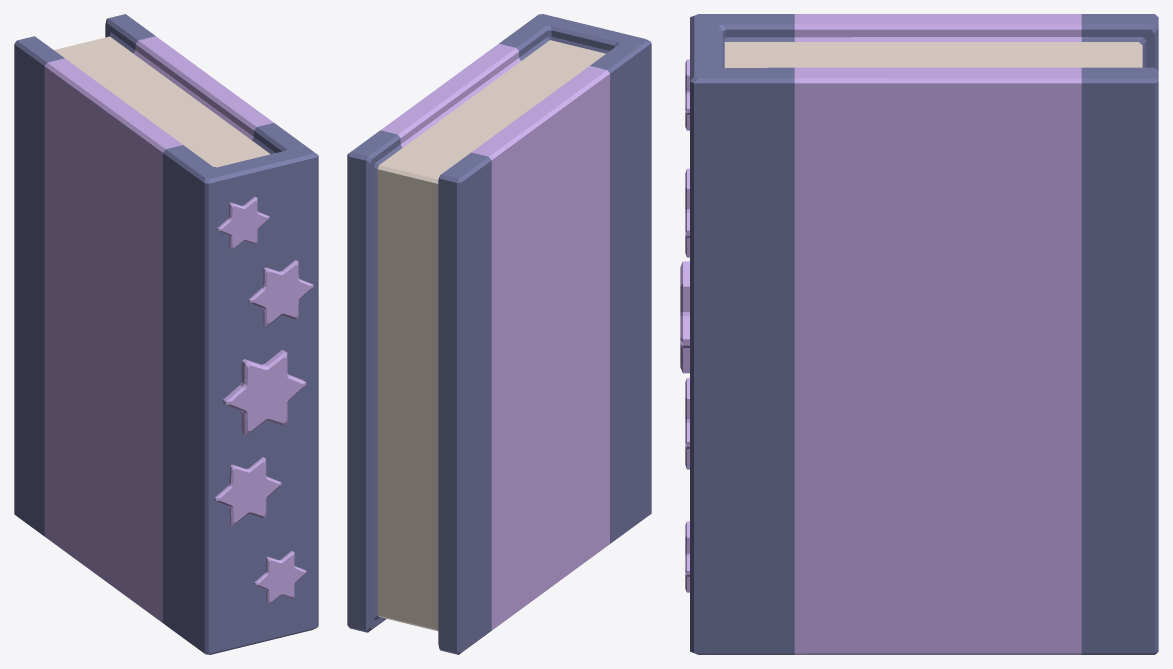
The model's file is Book_19.glb.
3 renders of one model, left to right at view 1: azimuth 30°, elevation 25°; view 2: azimuth 150°, elevation 25°; view 3: azimuth 270°, elevation 25°, orthographic. The views are drawn at different scales.
Visible parts, largest first — view 1: Book_19; view 2: Book_19; view 3: Book_19.
Part boxes in pixels (x1,y1,x2,y2): Book_19: (14,14,318,654); Book_19: (347,14,651,654); Book_19: (680,14,1158,654).
Size of the model in its own units: 0.0986 by 0.3928 by 0.2954.
Materials: 1 (1 with a texture image).
